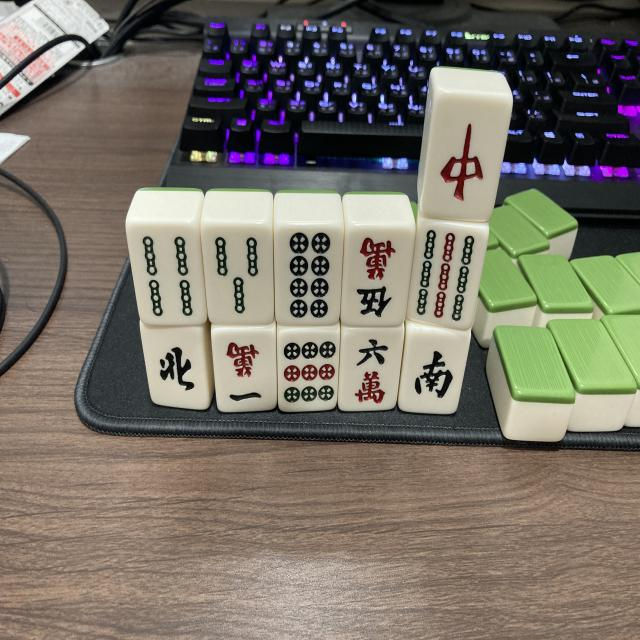m1: (213, 333, 277, 413)
m5: (342, 230, 414, 328)
m6: (338, 328, 401, 410)
north: (144, 329, 209, 407)
s3: (204, 228, 274, 328)
s4: (130, 227, 207, 328)
s9: (410, 227, 489, 334)
south: (402, 330, 467, 410)
t8: (275, 228, 343, 327)
t9: (279, 330, 340, 410)
zhong: (423, 96, 511, 224)
